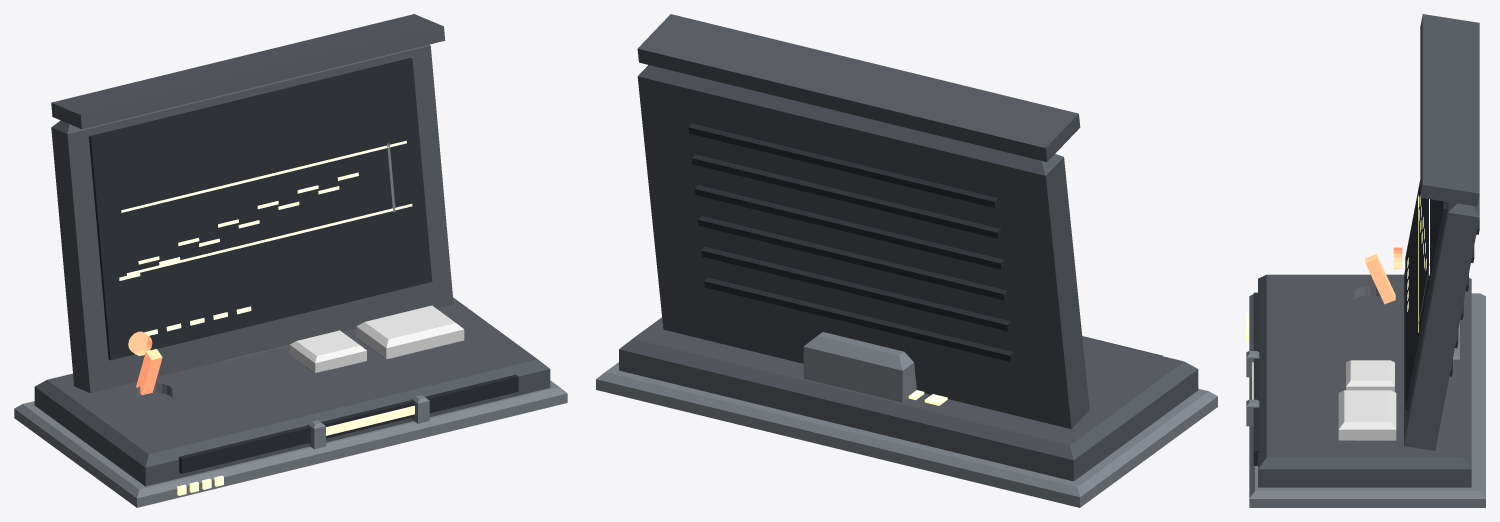
Rendered from xorr-terminal.glb.
3 renders of one model, left to right at view 1: azimuth 30°, elevation 25°; view 2: azimuth 150°, elevation 25°; view 3: azimuth 270°, elevation 25°, orthographic. The views are drawn at different scales.
Visible parts, largest first — view 1: screen, shell, trim, keys, signal, cutoff-lever; view 2: shell, trim, screen; view 3: shell, trim, screen, keys, cutoff-lever, signal.
Part boxes in pixels (bbox=[...]): screen: bbox=[89, 58, 518, 473]; shell: bbox=[34, 14, 550, 486]; trim: bbox=[14, 143, 567, 507]; keys: bbox=[289, 305, 464, 372]; signal: bbox=[119, 140, 414, 495]; cutoff-lever: bbox=[128, 331, 162, 395]; shell: bbox=[619, 14, 1198, 481]; trim: bbox=[596, 332, 1217, 507]; screen: bbox=[688, 123, 1162, 361]; shell: bbox=[1258, 14, 1479, 487]; trim: bbox=[1246, 263, 1485, 507]; screen: bbox=[1253, 180, 1479, 465]; keys: bbox=[1338, 360, 1396, 440]; cutoff-lever: bbox=[1365, 247, 1402, 304]; signal: bbox=[1246, 195, 1429, 399].
Size of the model in its own units: 1.66 by 1.18 by 0.831.
